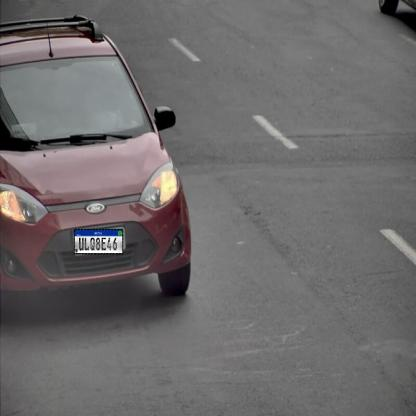PlacaM: (74, 229, 123, 254)
